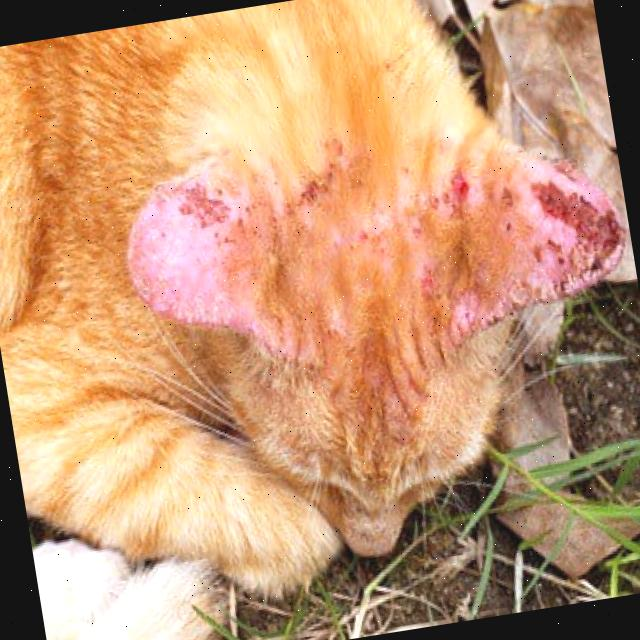cat-ringworm: (520, 148, 620, 289), (173, 176, 236, 244), (294, 162, 340, 224), (418, 264, 451, 308), (444, 169, 474, 209)
